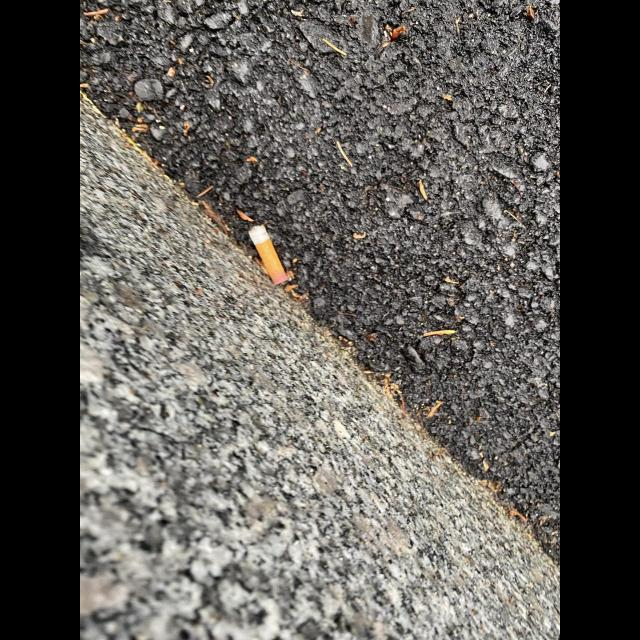cigarette: (247, 224, 289, 287)
